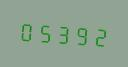five: (36, 18, 53, 46)
nine: (72, 20, 89, 48)
three: (54, 19, 71, 47)
two: (90, 21, 107, 49)
zero: (18, 16, 35, 44)
